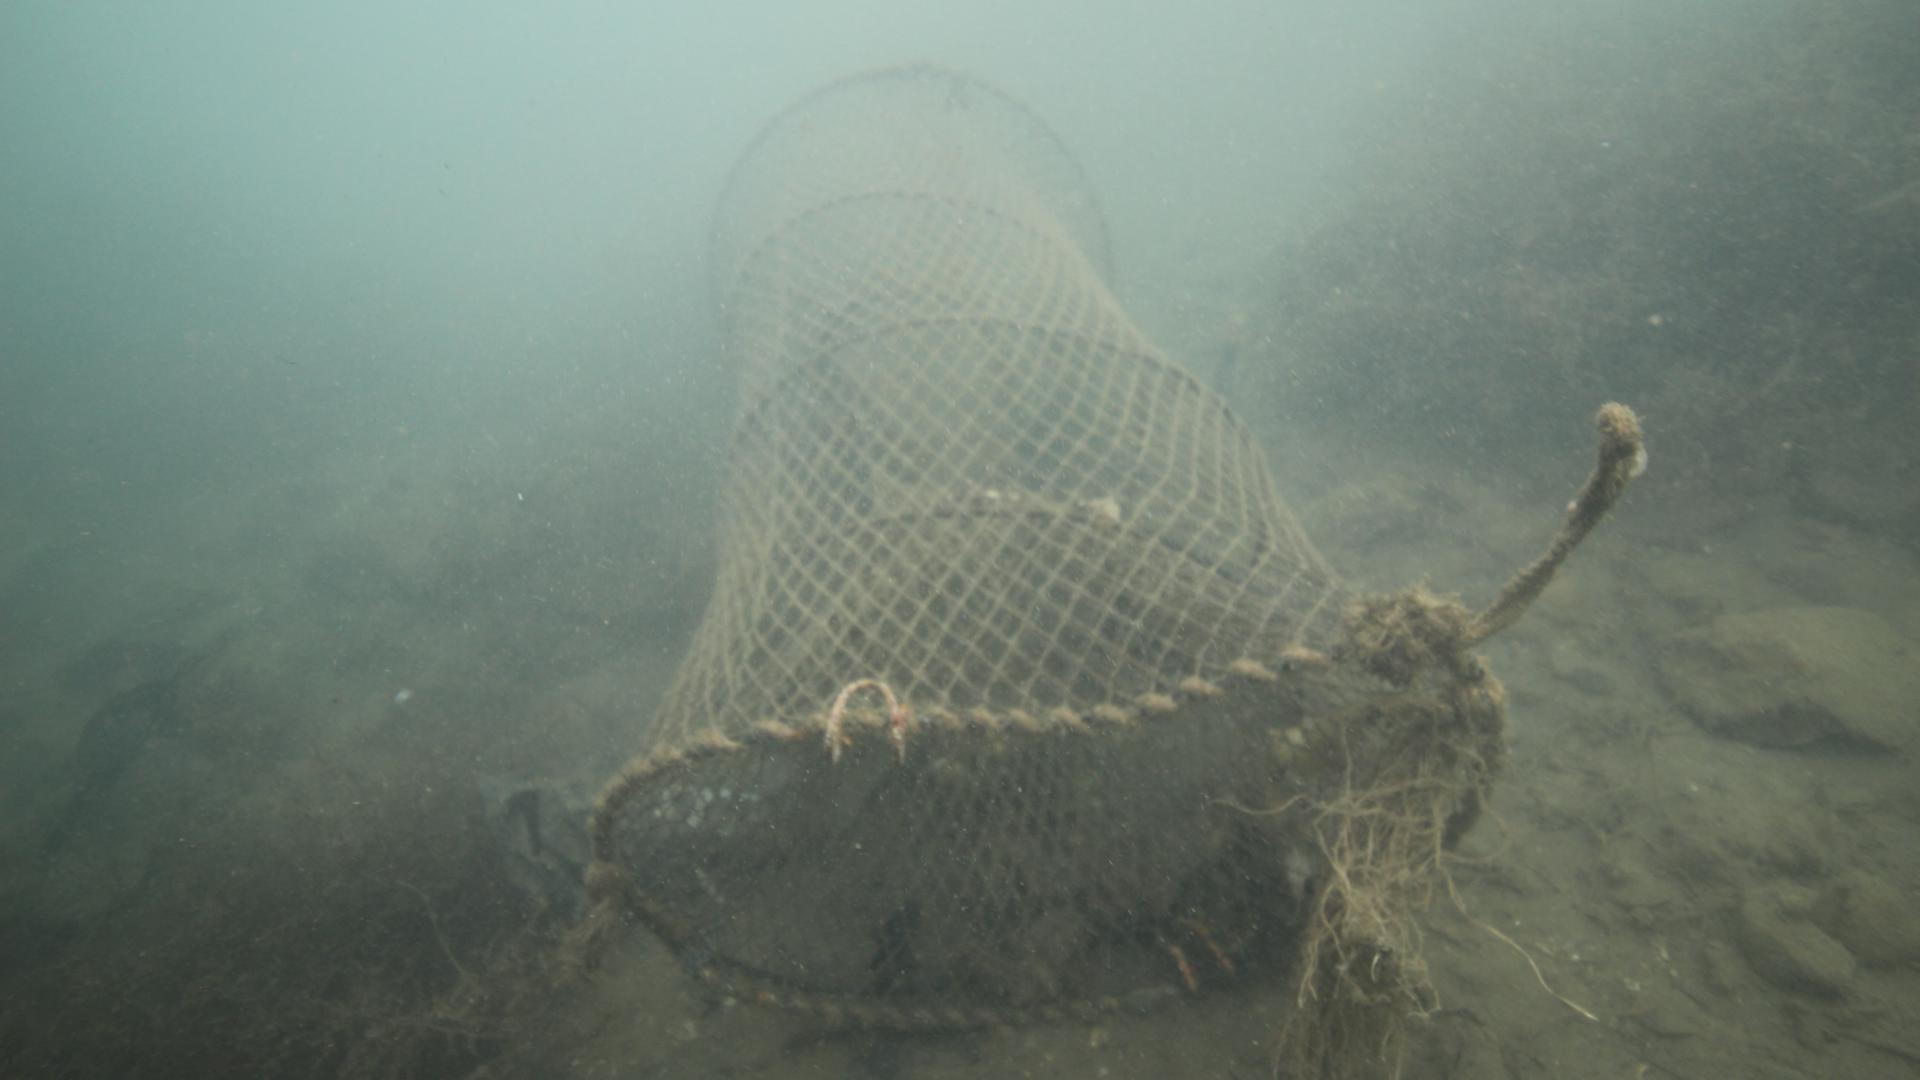bundle of ropes: (1437, 400, 1638, 653)
spring fish trap: (587, 57, 1506, 1030)
